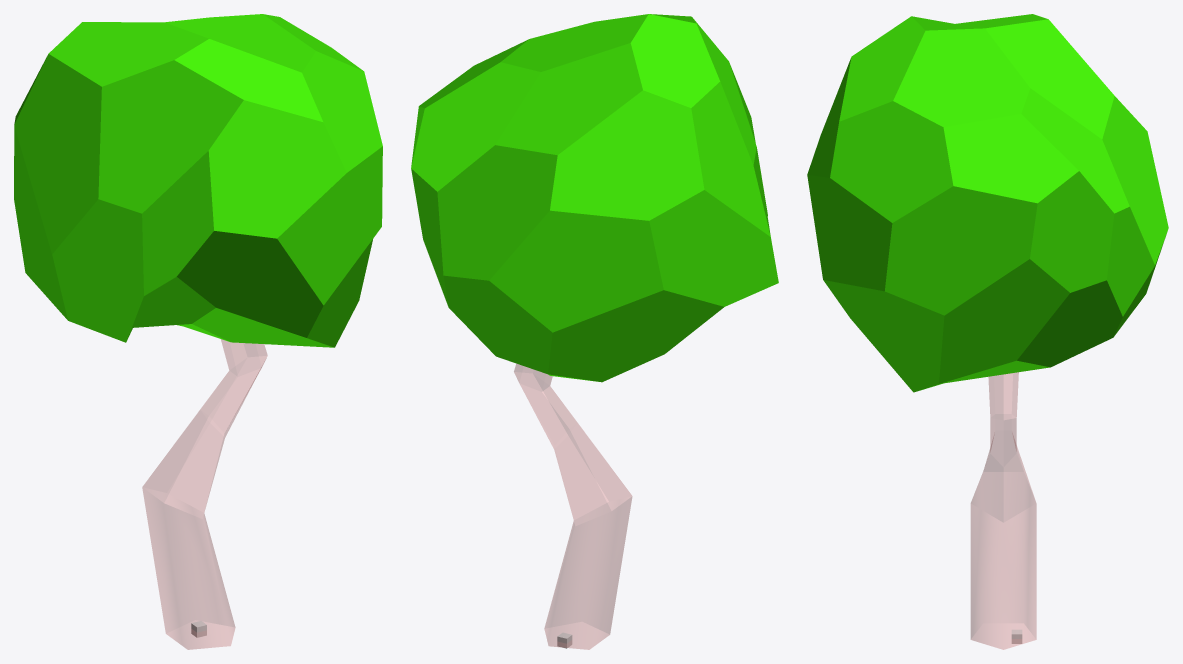
File: tree.glb
3 views of the same model, side by side, from view 1: azimuth 30°, elevation 25°; view 2: azimuth 150°, elevation 25°; view 3: azimuth 270°, elevation 25° (orthographic). The views are drawn at different scales.
Visible parts, largest first — view 1: Tree low; view 2: Tree low; view 3: Tree low.
Part boxes in pixels (bbox=[...]): Tree low: bbox=[14, 14, 382, 649]; Tree low: bbox=[411, 14, 778, 649]; Tree low: bbox=[807, 14, 1168, 649].
Size of the model in its own units: 65.79 by 122 by 67.59.
